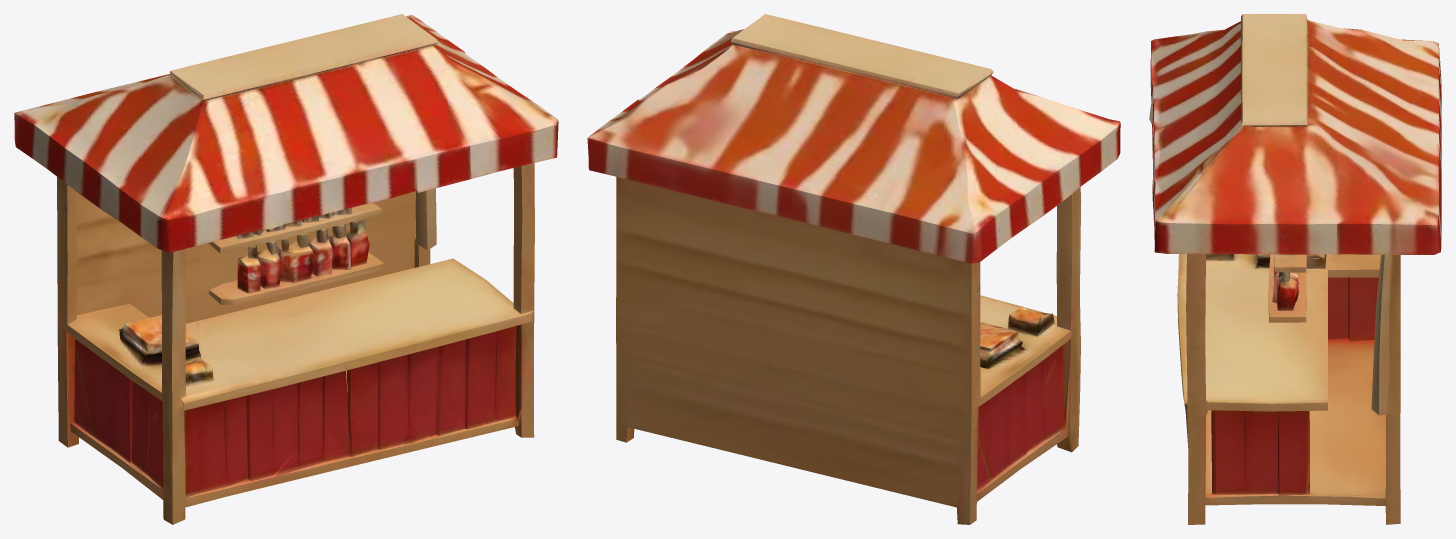
File: festivalStall.glb
3 views of the same model, side by side, from view 1: azimuth 30°, elevation 25°; view 2: azimuth 150°, elevation 25°; view 3: azimuth 270°, elevation 25° (orthographic). The views are drawn at different scales.
Visible parts, largest first — view 1: model; view 2: model; view 3: model.
Part boxes in pixels (x1=…): model: x1=14, y1=14, x2=558, y2=524; model: x1=587, y1=14, x2=1120, y2=524; model: x1=1149, y1=14, x2=1441, y2=524.
Size of the model in its own units: 1.89 by 1.78 by 1.26.
Materials: 1 (1 with a texture image).
